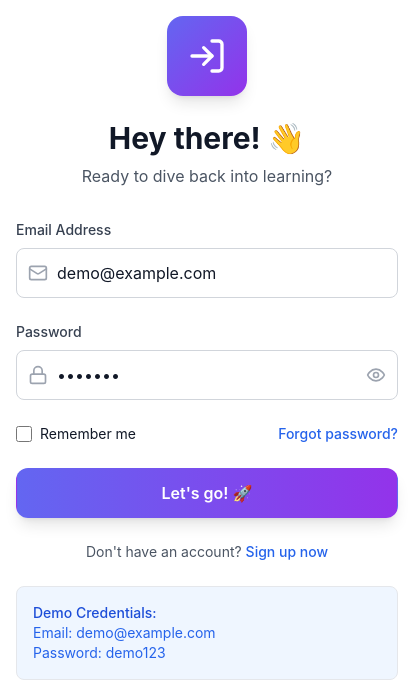
LoginForm › toggles password visibility
Step 1. Click the button named "show password" → (382, 375), box x1=366 y1=350 x2=398 y2=400
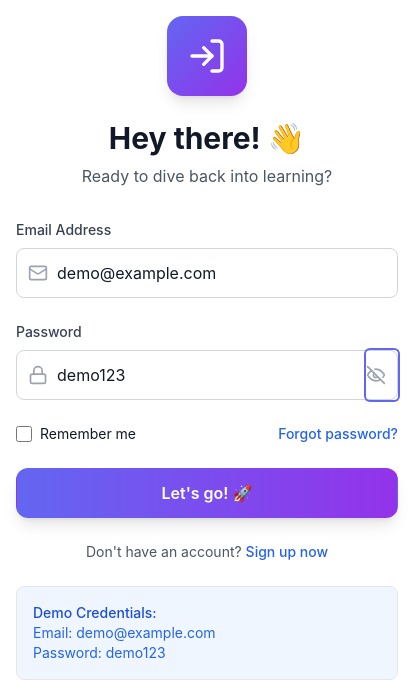
Expected: the 2nd field showing "demo123" shows its text, x1=16 y1=350 x2=398 y2=400
Step 2. Click the button named "show password" → (382, 375), box x1=366 y1=350 x2=398 y2=400
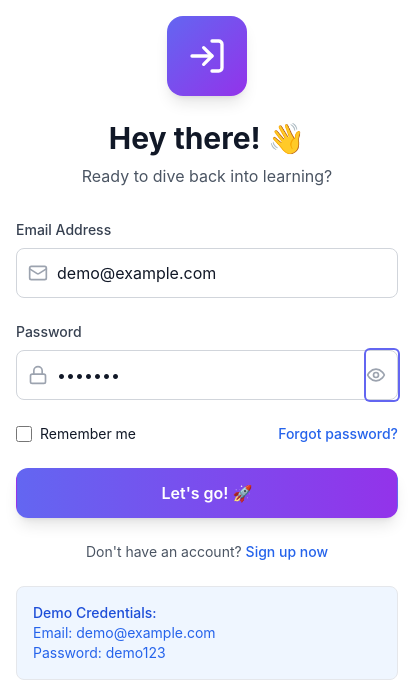
Expected: the password field showing "demo123" hides its text, x1=16 y1=350 x2=398 y2=400
